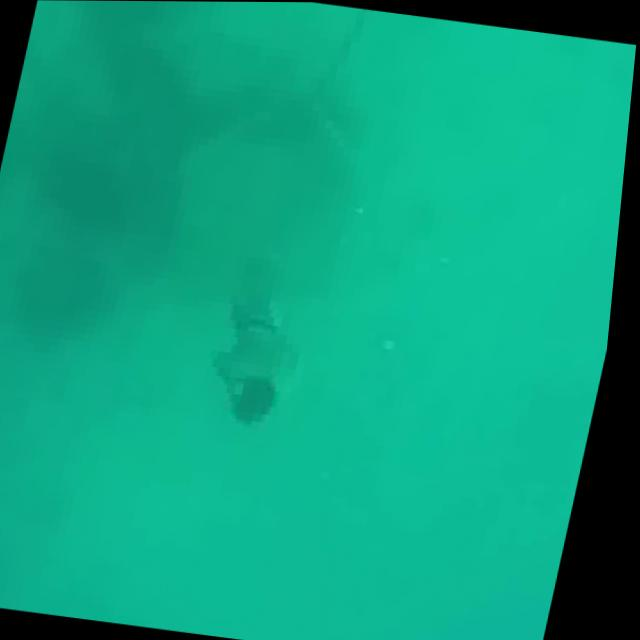human: (198, 252, 329, 439)
